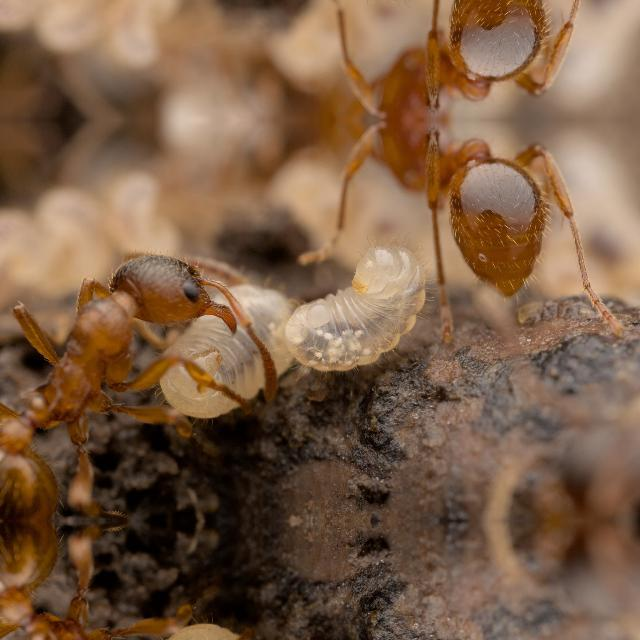Myrmica: (0, 216, 286, 518), (200, 120, 632, 308), (200, 0, 630, 118), (0, 522, 286, 640)
